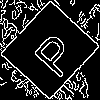P: (25, 25, 81, 81)
